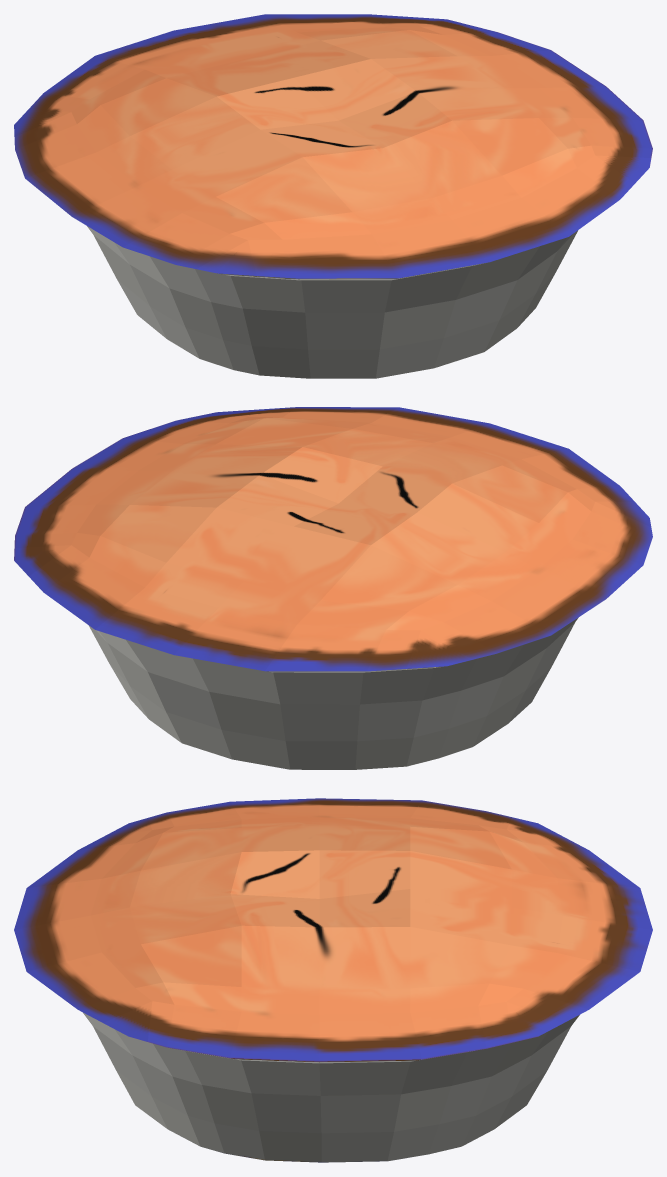
Rendered from nick-pie-platter-01.fbx.
3 renders of one model, top to bottom at view 1: azimuth 30°, elevation 25°; view 2: azimuth 150°, elevation 25°; view 3: azimuth 270°, elevation 25°, orthographic.
Parts seen in each view (by area): view 1: Cube; view 2: Cube; view 3: Cube.
Boxes of the visible parts, bbox=[...] form: Cube: bbox=[14, 14, 652, 378]; Cube: bbox=[14, 407, 652, 769]; Cube: bbox=[14, 798, 652, 1162].
Bounding box in the file's own units: 57.08 × 19.18 × 58.54.
